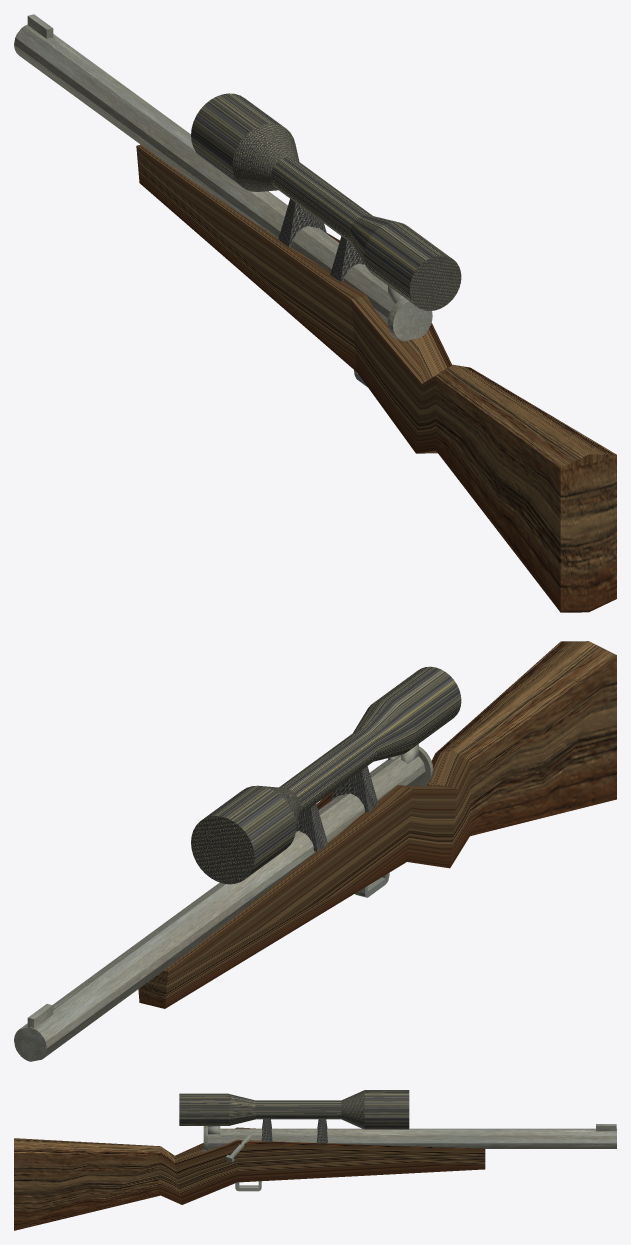
File: sniper_rifle.glb
The picture shows the model from 3 angles, top to bottom: view 1: azimuth 30°, elevation 25°; view 2: azimuth 150°, elevation 25°; view 3: azimuth 270°, elevation 25°; orthographic projection. The views are drawn at different scales.
Parts seen in each view (by area): view 1: stock, Cylinder, lauf, stopsel, Cube.001, Cube; view 2: stock, Cylinder, lauf, Cube, Cube.001; view 3: stock, lauf, Cylinder, Cube.001, Cube.
Boxes of the visible parts, <box> form: stock: <box>136,144,616,612</box>; Cylinder: <box>191,93,461,310</box>; lauf: <box>14,24,395,324</box>; stopsel: <box>387,297,432,341</box>; Cube.001: <box>278,199,326,246</box>; Cube: <box>330,236,364,281</box>; stock: <box>138,641,616,1008</box>; Cylinder: <box>191,666,461,884</box>; lauf: <box>14,755,425,1061</box>; Cube: <box>331,766,378,812</box>; Cube.001: <box>296,803,327,851</box>; stock: <box>14,1127,485,1230</box>; lauf: <box>208,1128,616,1148</box>; Cylinder: <box>179,1090,409,1129</box>; Cube.001: <box>316,1119,327,1143</box>; Cube: <box>261,1119,272,1141</box>.
Bounding box in the file's own units: 0.4541 × 1.13 × 4.56.
Materials: 8 (8 with a texture image).
